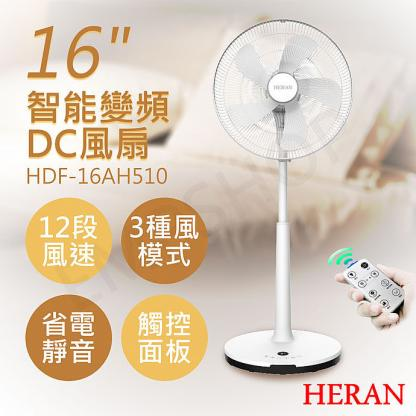fan: (202, 11, 364, 382)
